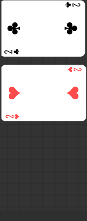2C: (3, 47, 21, 55)
2H: (5, 112, 21, 119)
